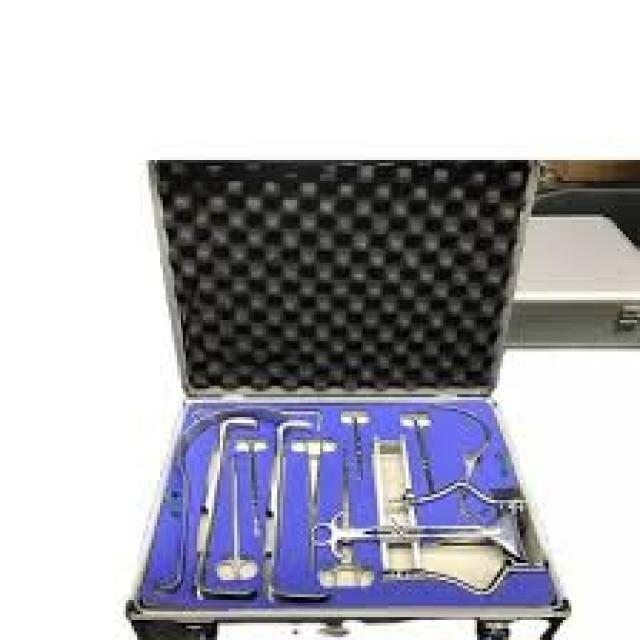tools_table: (134, 368, 570, 640)
